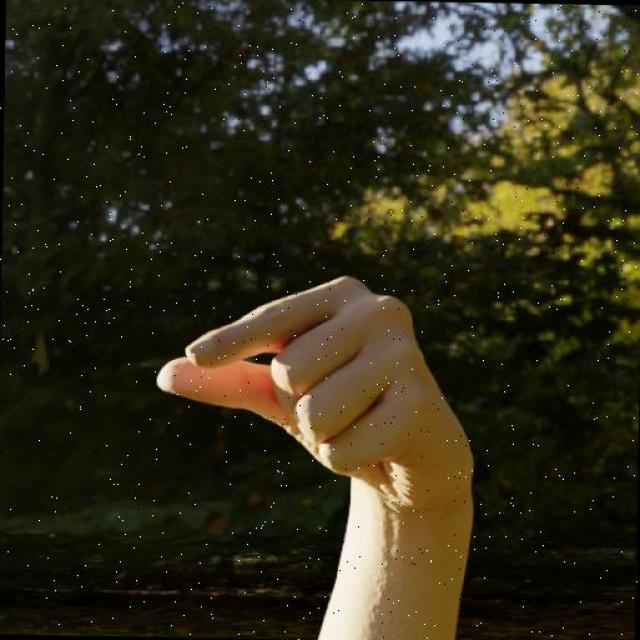G: (140, 266, 488, 554)
